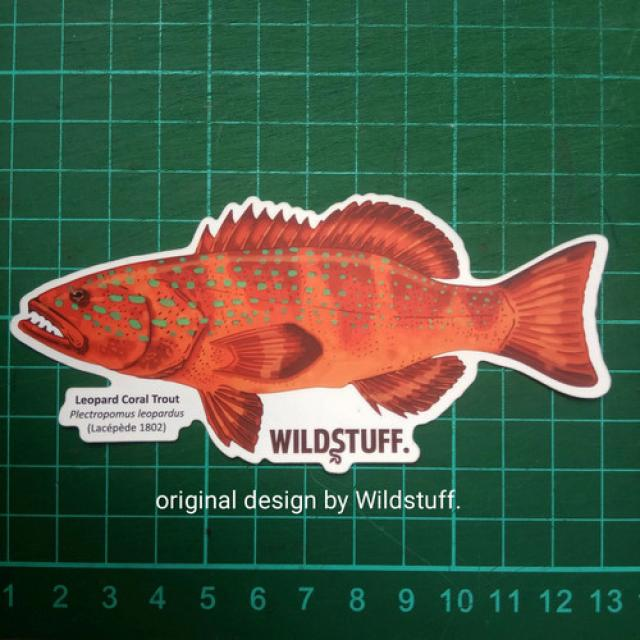Plectropomus-leopardus: (0, 176, 628, 476)
